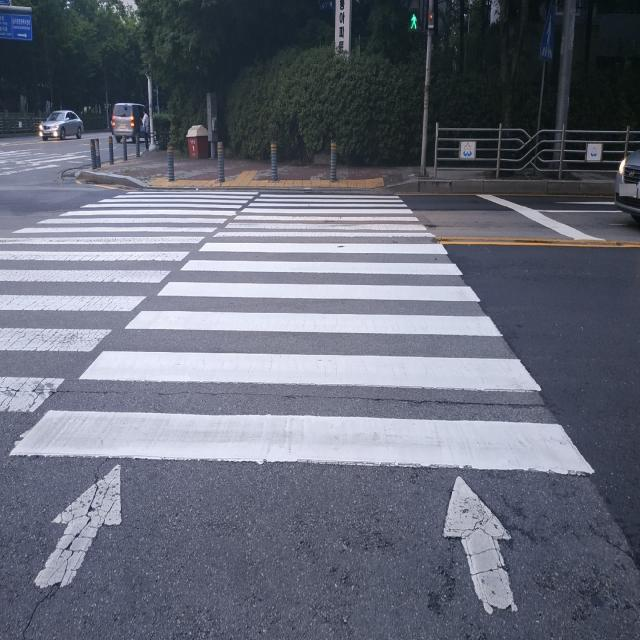횡단보도: (0, 192, 595, 616)
